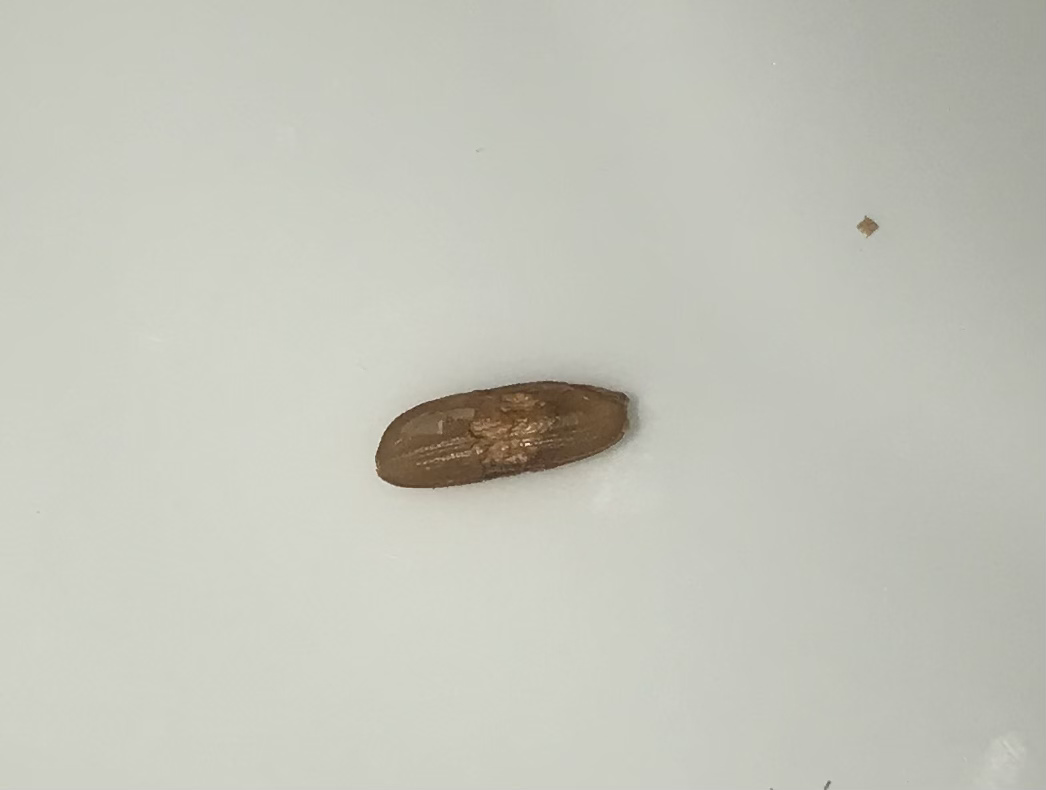Gao Lut Dien Bien: (378, 358, 634, 505)
